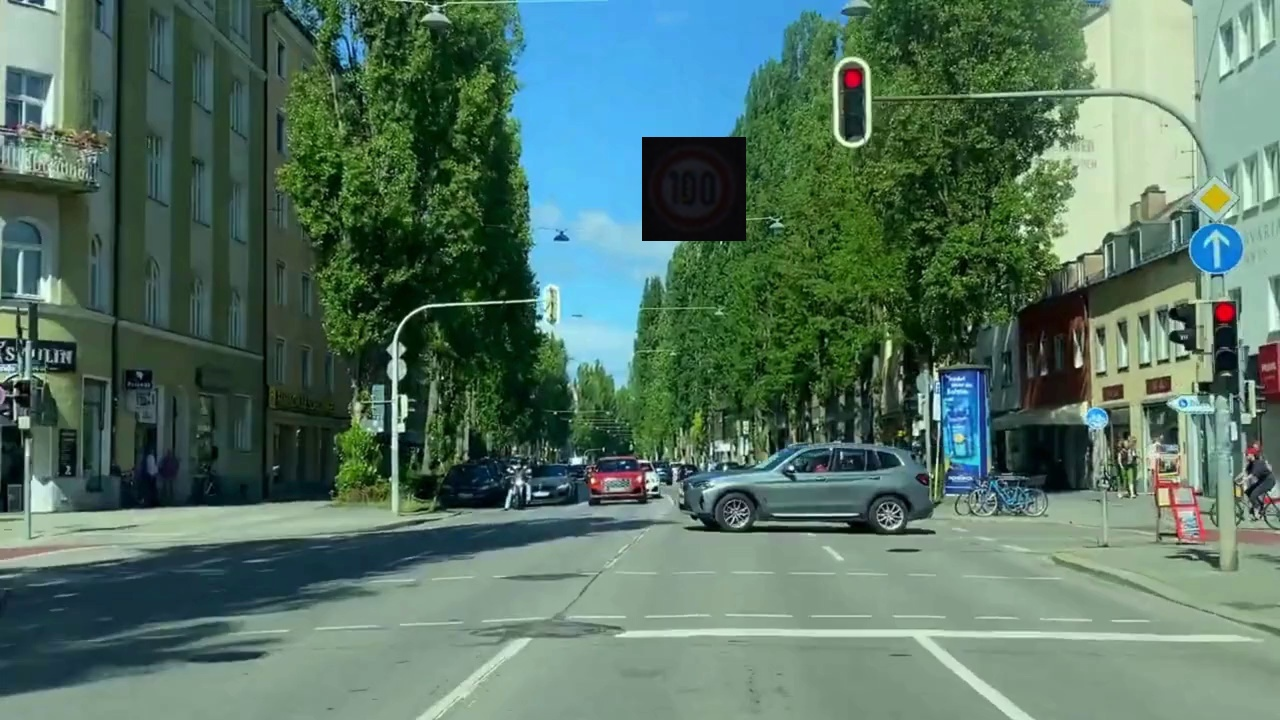Speed 100: (642, 137, 746, 241)
